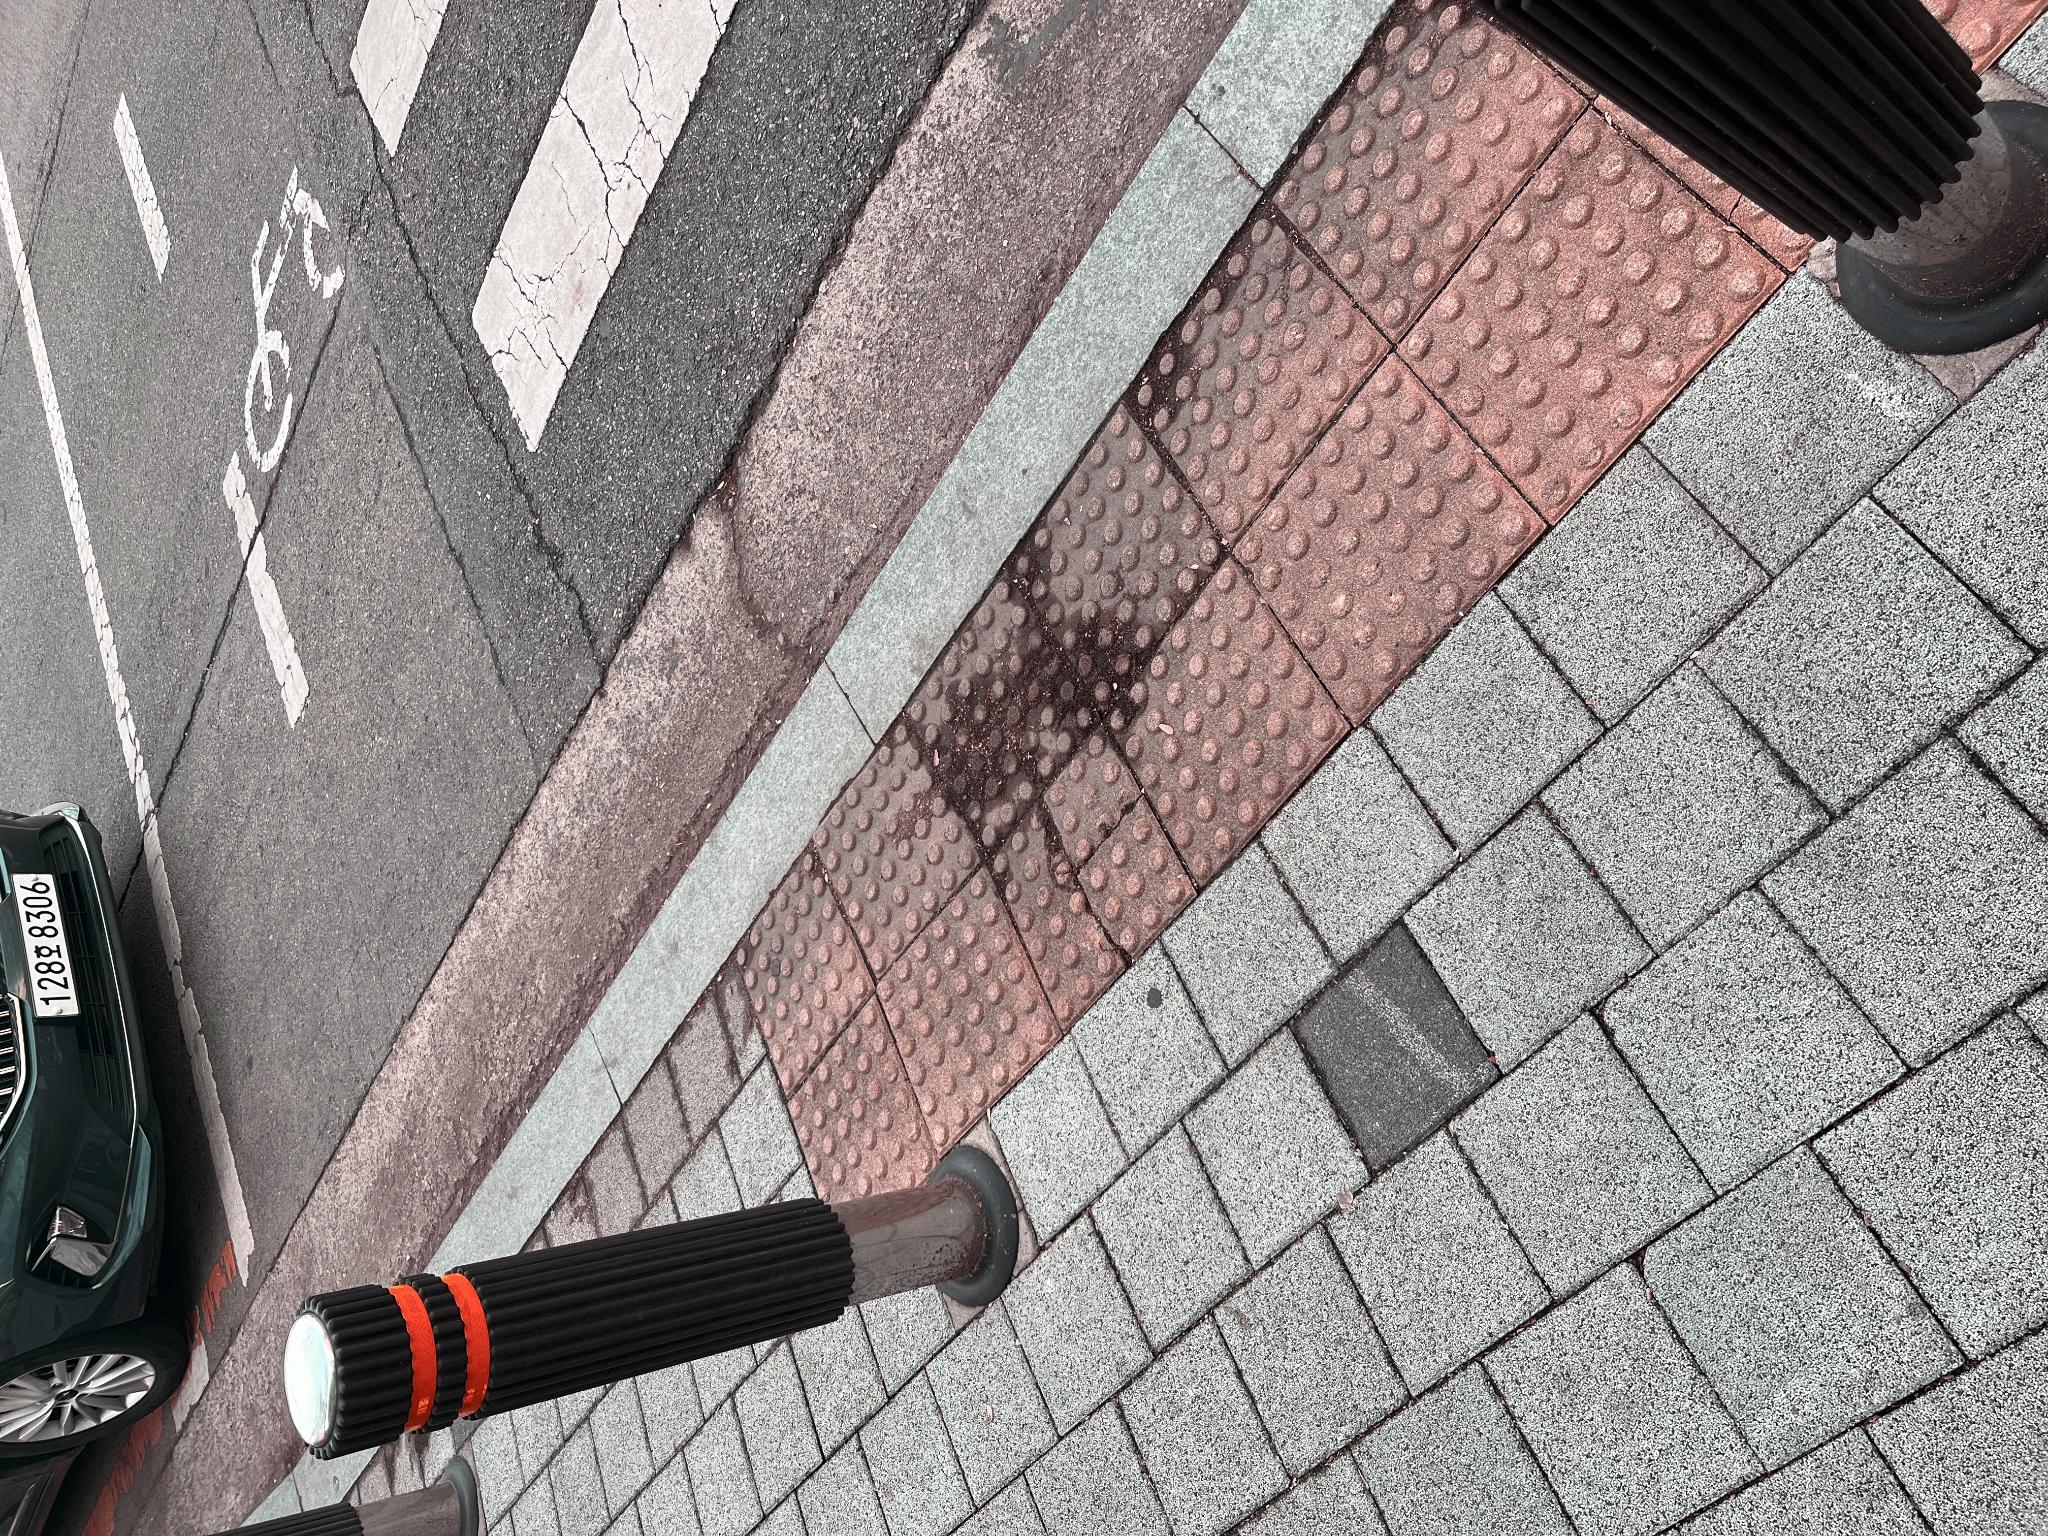Stop block broken: (510, 991, 810, 1192)
Stop block normal: (813, 1231, 1180, 1536), (993, 1129, 1326, 1388), (656, 1107, 977, 1347), (826, 1012, 1130, 1225), (685, 905, 964, 1096)
